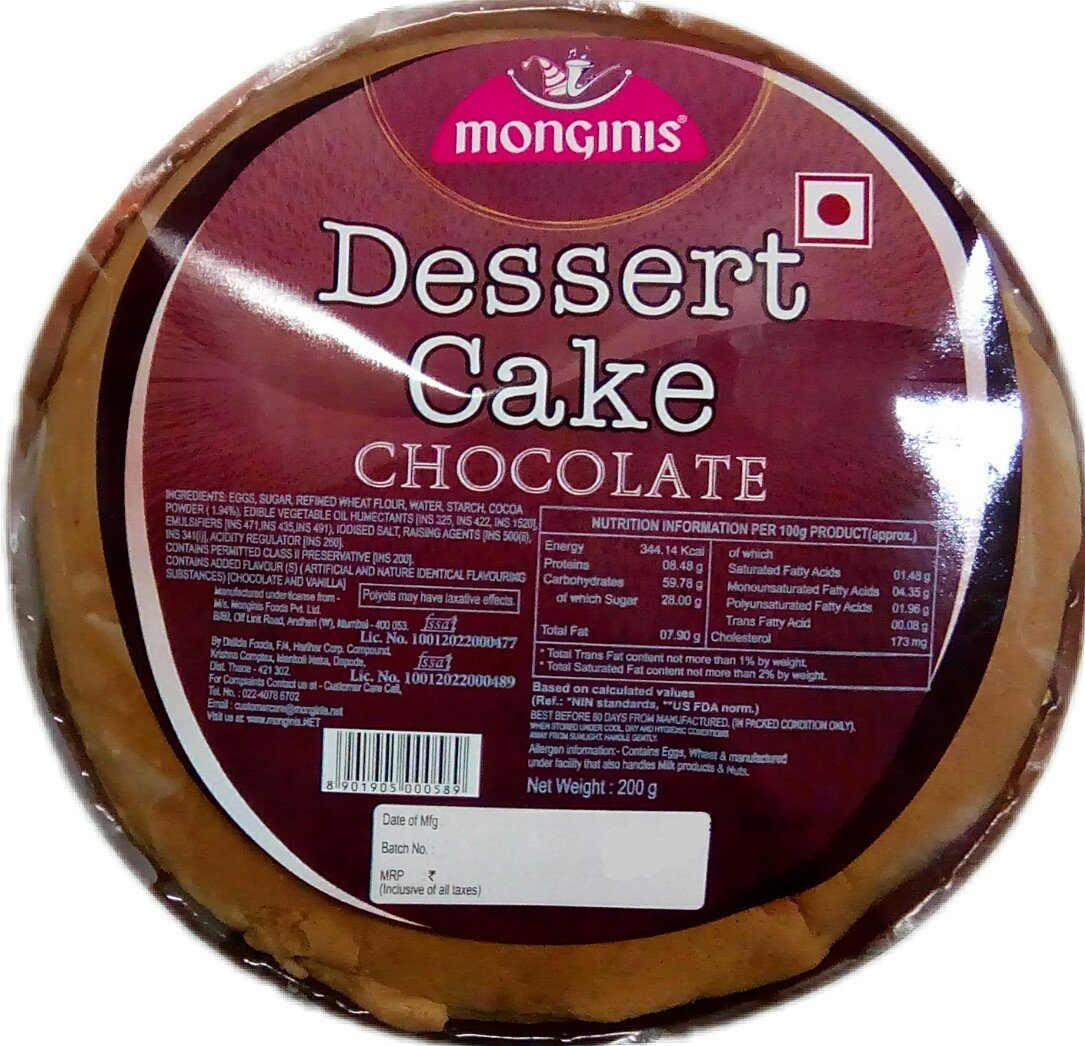nonveg_red: (796, 173, 871, 244)
